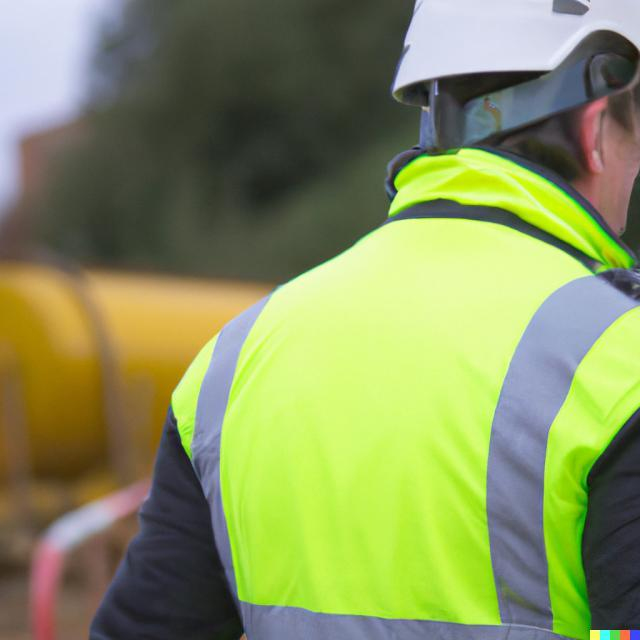reflective_jacket: (162, 212, 639, 639)
safety_helmet: (388, 1, 638, 111)
